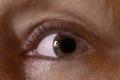eye: (53, 35, 84, 57)
